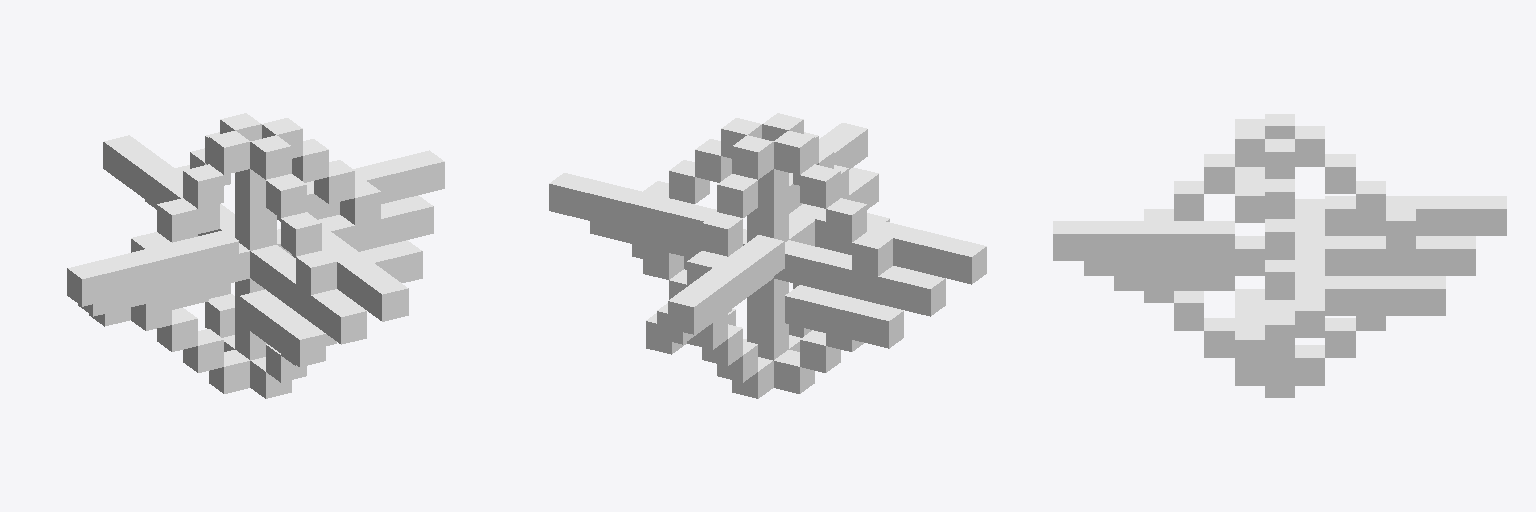
File: heli_rotor_vertical.obj
3 renders of one model, left to right at view 1: azimuth 30°, elevation 25°; view 2: azimuth 150°, elevation 25°; view 3: azimuth 270°, elevation 25°, orthographic.
Parts seen in each view (by area): view 1: object 1; view 2: object 1; view 3: object 1.
Part boxes in pixels (bbox=[...]): object 1: bbox=[67, 113, 444, 398]; object 1: bbox=[549, 113, 986, 398]; object 1: bbox=[1053, 114, 1506, 397].
Bounding box in the file's own units: 1.5 × 0.9 × 1.5.